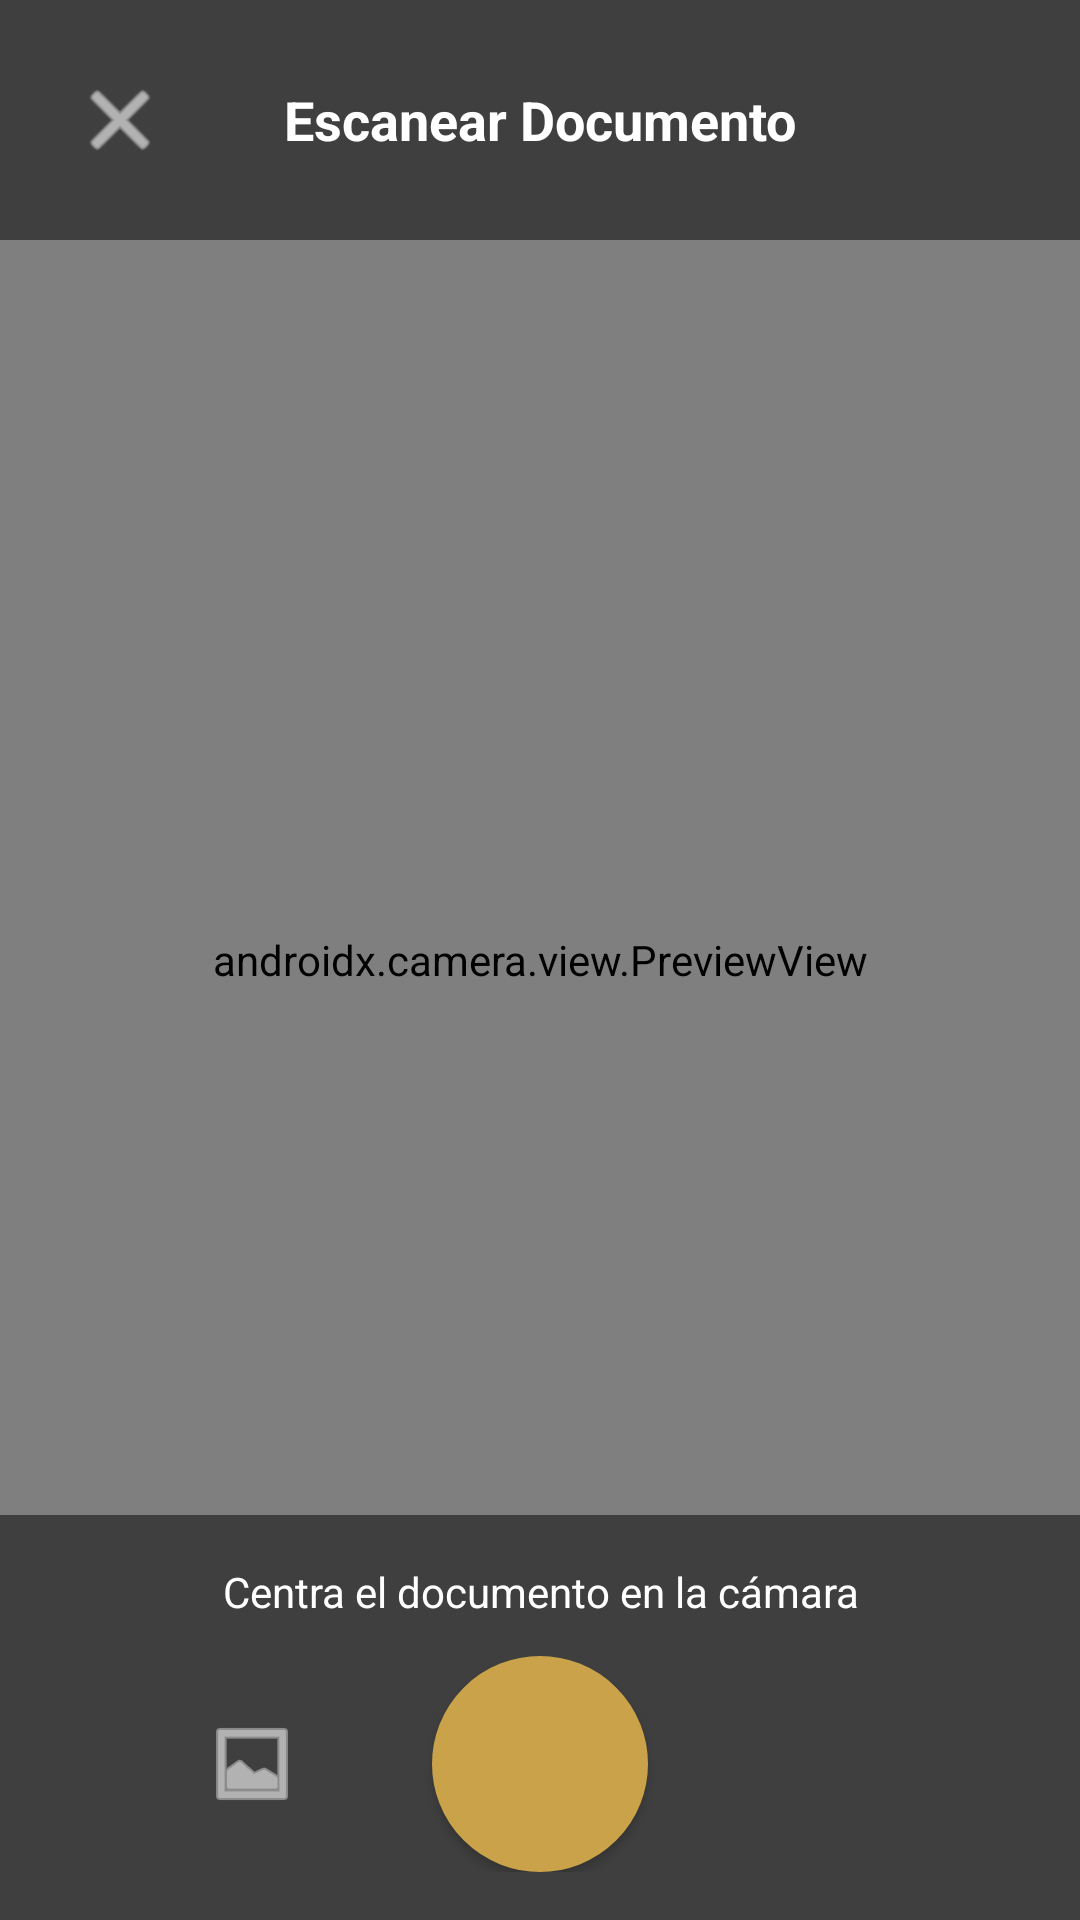

Where to tap for icons on this 1080 × 1920 app screen, as point (x, y):
Cerrar: point (120, 120)
Galería: point (252, 1764)
